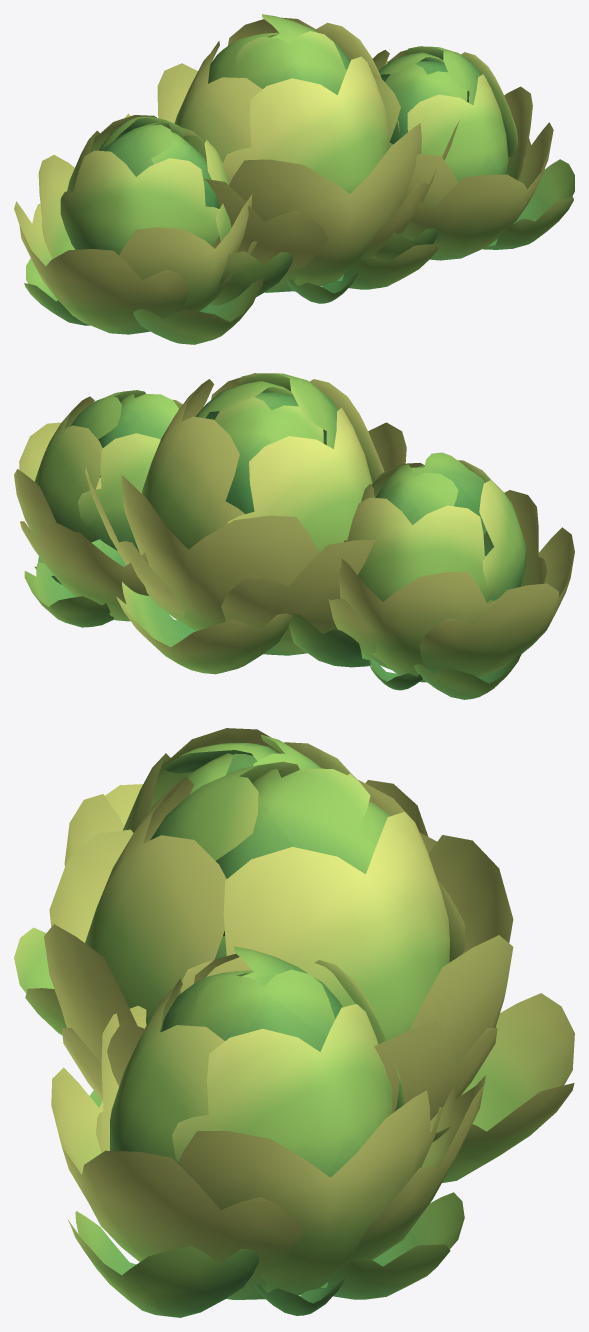
File: Bush.fbx
3 renders of one model, top to bottom at view 1: azimuth 30°, elevation 25°; view 2: azimuth 150°, elevation 25°; view 3: azimuth 270°, elevation 25°, orthographic. The views are drawn at different scales.
Parts seen in each view (by area): view 1: Bush; view 2: Bush; view 3: Bush.
Boxes of the visible parts, x1,y1,x2,y2 form: Bush: [14, 14, 574, 344]; Bush: [14, 373, 574, 699]; Bush: [14, 728, 574, 1317].
Bounding box in the file's own units: 253 × 122 × 147.
